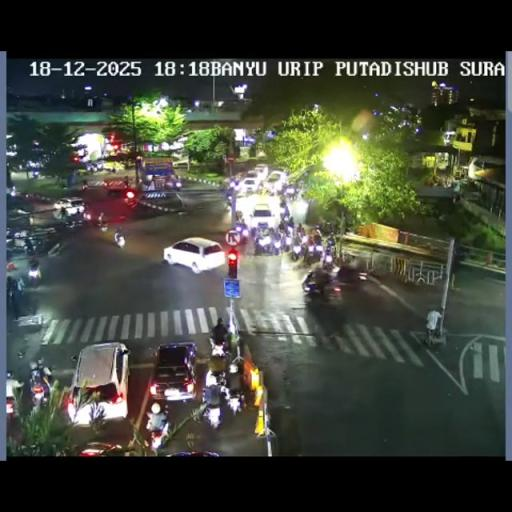Car: (66, 342, 130, 424), (148, 342, 198, 402), (162, 236, 224, 274), (6, 374, 23, 418), (250, 202, 276, 230), (72, 441, 123, 455), (335, 263, 362, 284), (54, 197, 86, 214), (103, 178, 132, 196), (265, 170, 286, 193), (238, 177, 260, 193), (253, 163, 269, 179)
Motorcycle: (145, 406, 169, 450), (29, 358, 53, 400), (208, 338, 230, 374), (200, 395, 223, 429), (422, 312, 444, 346), (321, 274, 343, 304), (253, 227, 276, 255), (7, 278, 22, 318), (226, 386, 244, 416), (304, 239, 322, 265), (232, 221, 250, 242), (315, 219, 337, 235), (27, 266, 42, 288), (301, 270, 316, 292), (321, 246, 334, 268), (204, 367, 218, 387), (244, 235, 256, 257), (62, 213, 78, 229), (290, 240, 302, 260), (218, 382, 230, 401), (24, 240, 38, 256), (281, 233, 292, 252), (280, 208, 291, 226), (223, 194, 233, 212), (124, 190, 135, 206), (114, 231, 124, 248), (81, 208, 92, 223), (452, 188, 462, 203), (6, 243, 14, 261), (98, 218, 108, 232), (326, 236, 336, 250), (296, 224, 306, 238), (172, 177, 182, 190), (234, 210, 244, 223), (290, 187, 298, 202), (228, 362, 238, 374), (279, 197, 287, 209), (88, 164, 94, 174), (81, 183, 87, 192), (10, 188, 16, 197), (110, 166, 116, 174), (32, 170, 38, 178)
